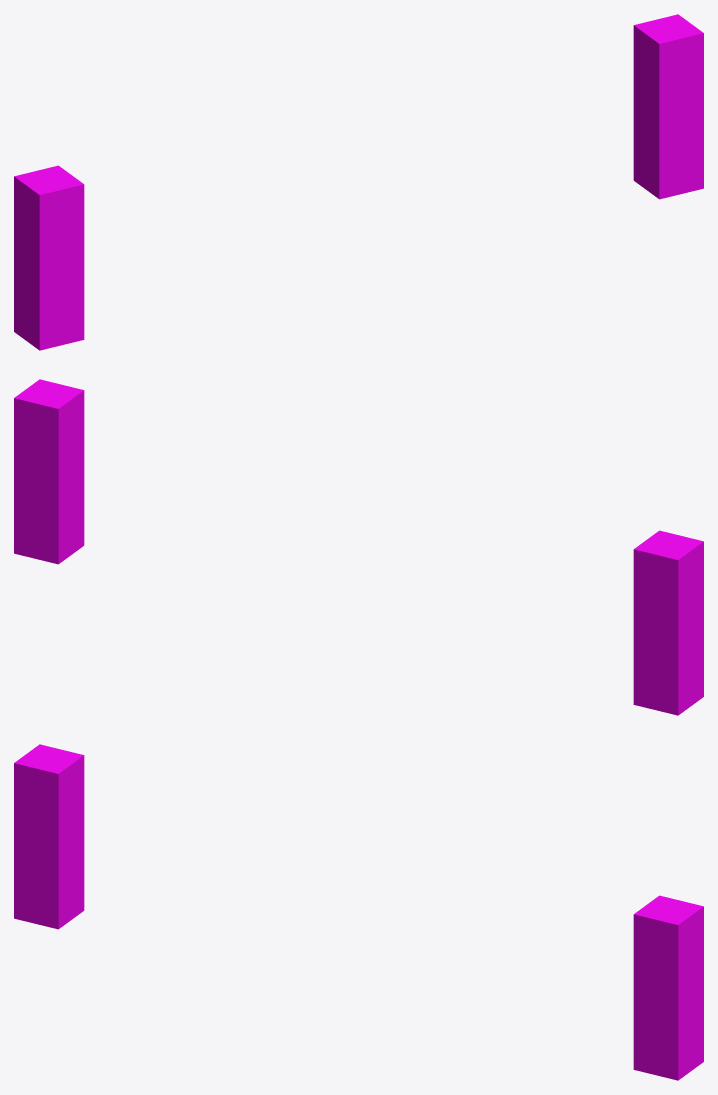
File: bridge-abutment-observatory.collision.glb
The picture shows the model from 3 angles, top to bottom: view 1: azimuth 30°, elevation 25°; view 2: azimuth 150°, elevation 25°; view 3: azimuth 330°, elevation 25°; orthographic projection.
Parts seen in each view (by area): view 1: bridge_abutment_observatory_collision_collision; view 2: bridge_abutment_observatory_collision_collision; view 3: bridge_abutment_observatory_collision_collision.
Boxes of the visible parts, bbox=[...] form: bridge_abutment_observatory_collision_collision: bbox=[14, 14, 703, 350]; bridge_abutment_observatory_collision_collision: bbox=[14, 379, 703, 715]; bridge_abutment_observatory_collision_collision: bbox=[14, 744, 703, 1080].
Size of the model in its own units: 6.26 by 1.4 by 0.42.
